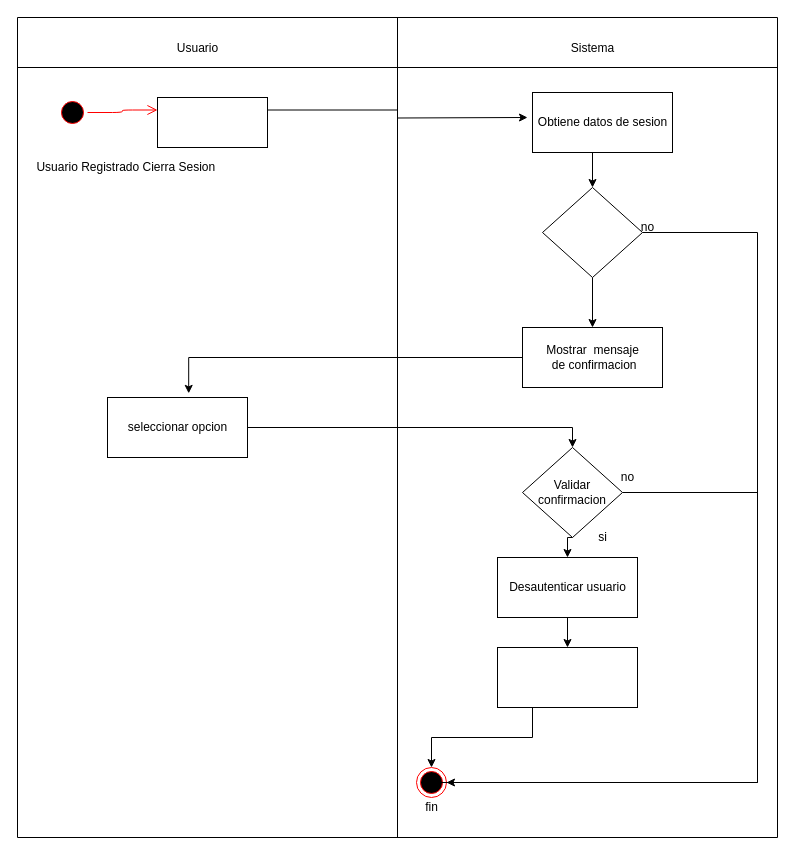
The diagram is 796 pixels wide and 856 high, and some of its shapes have lost their labels. The shapes that lost their labels are listed below. From the top down, each one's box as (x1, y1, x2, y2) in pixels, then its label:
(156, 96, 268, 148): Cierra Sesion
(542, 186, 642, 278): Validacion de usuario
(496, 646, 638, 708): mostrar interfaz de inicio
